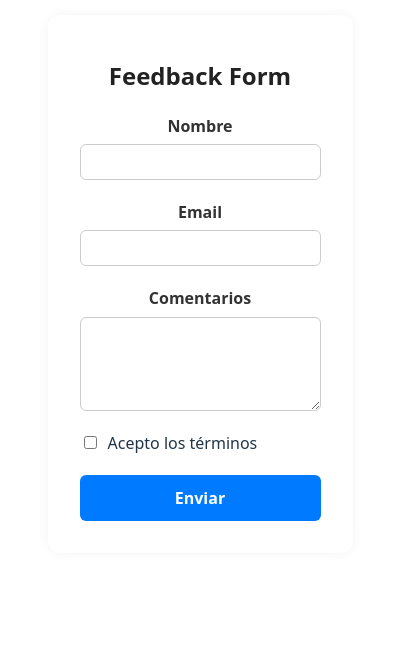
Scenario: FormPage › debe mostrar errores si se envía vacío
Click the button "Enviar" at coordinates (200, 498), box left=80, top=475, right=320, bottom=521
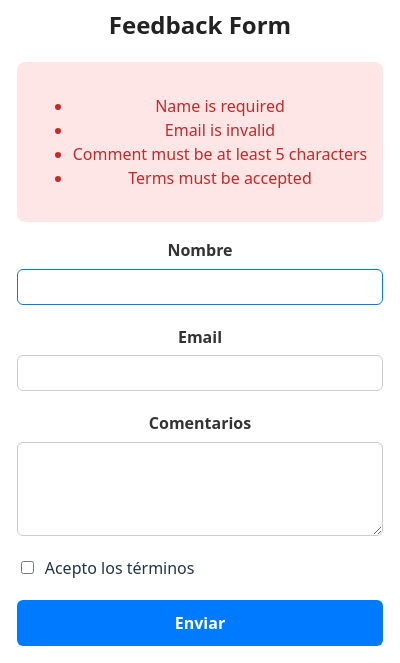
Check: the message is shown, box left=17, top=62, right=383, bottom=222
Check: the list item "Name is required" is shown, box left=155, top=96, right=285, bottom=118
Check: the list item "Email is invalid" is shown, box left=165, top=120, right=275, bottom=142
